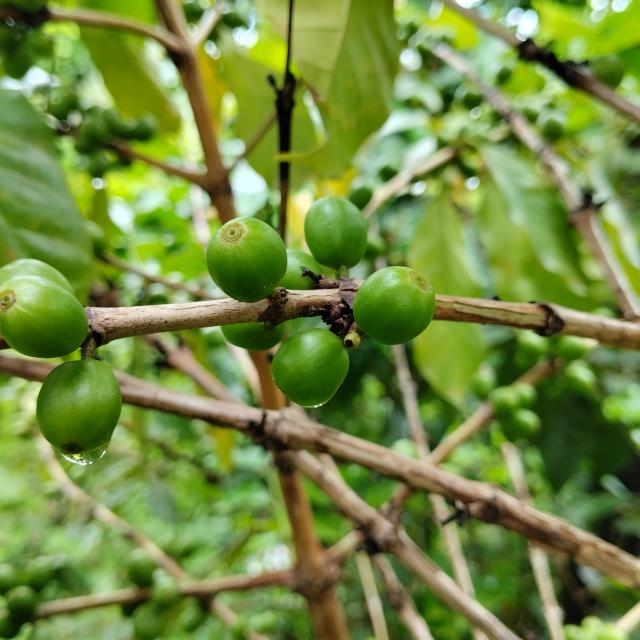green: (35, 359, 121, 454), (0, 275, 88, 358), (206, 218, 287, 302), (353, 266, 436, 345), (271, 329, 349, 408), (305, 196, 368, 270)
